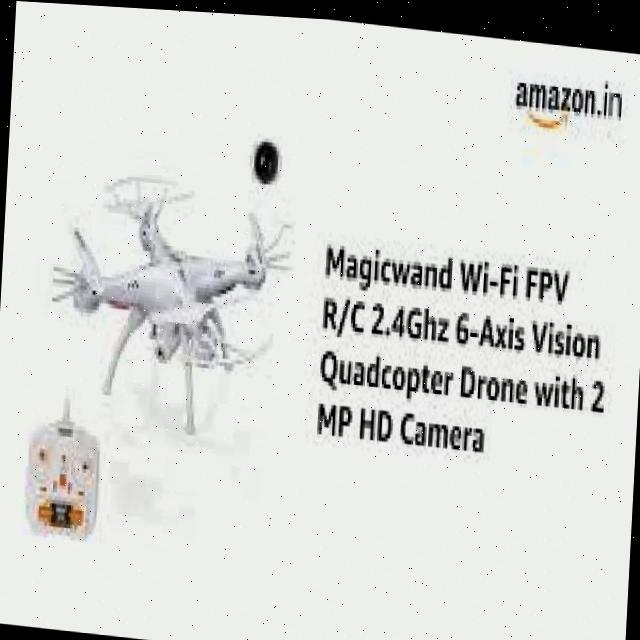drone: (38, 136, 298, 466)
